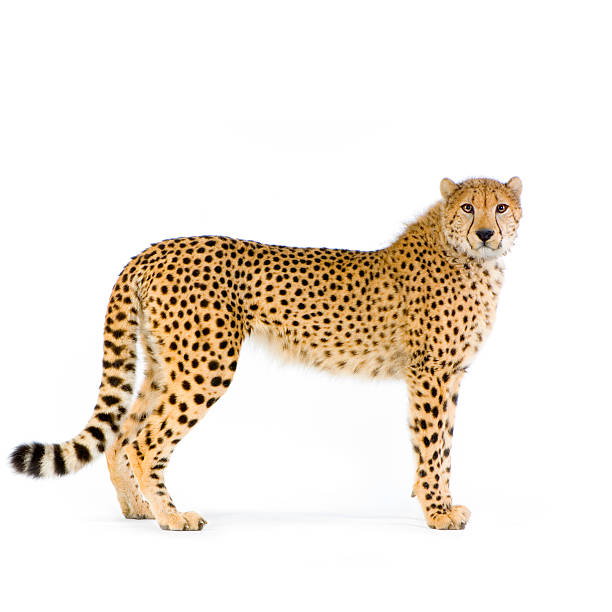cheetah: (428, 159, 536, 273)
